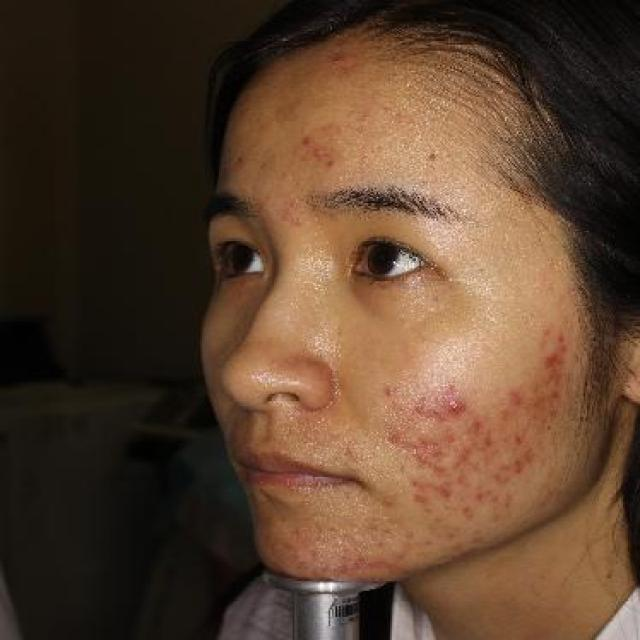dark spot: (538, 346, 574, 369), (506, 454, 530, 477), (505, 386, 527, 408), (458, 500, 476, 522), (414, 490, 433, 508), (428, 511, 447, 526), (421, 503, 438, 517)
papules: (377, 491, 402, 511), (447, 396, 469, 418), (306, 143, 327, 162)
pustules: (329, 45, 349, 69)
